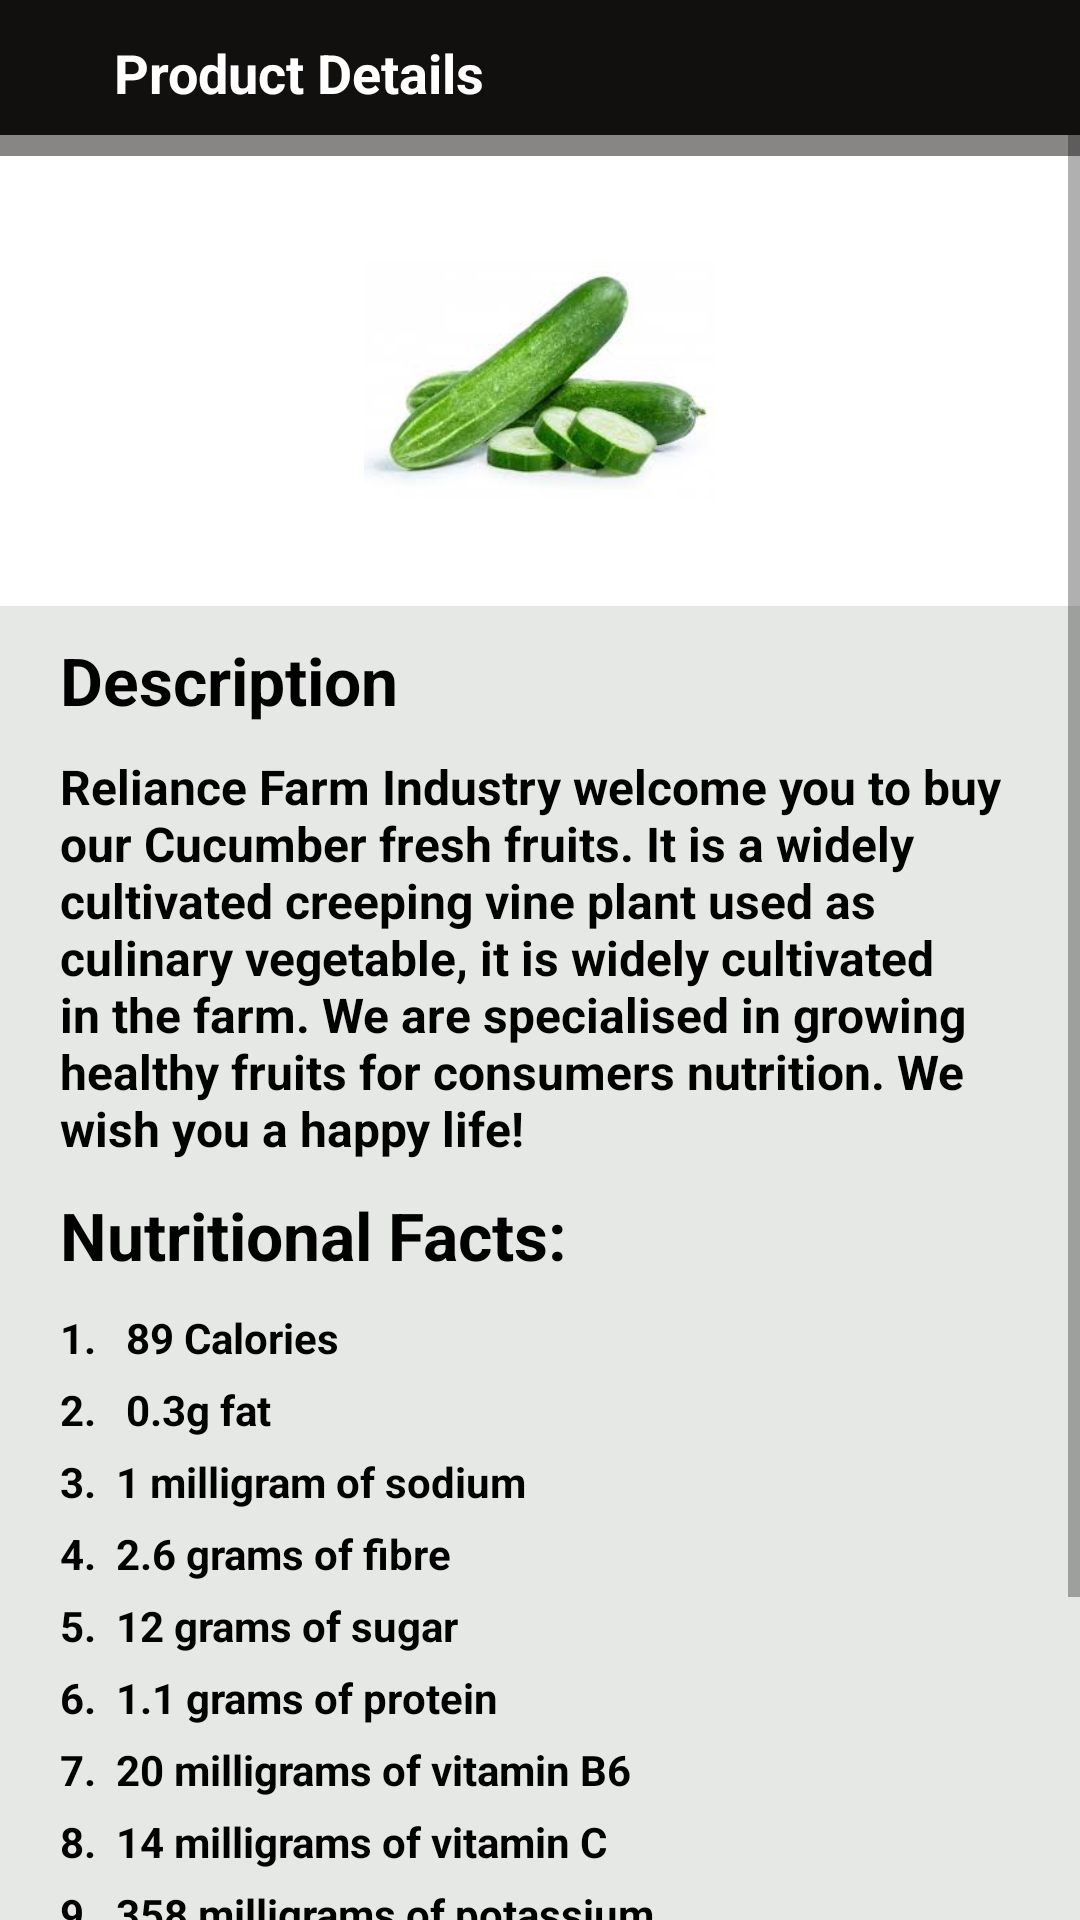

Where to tap for icons on this 1080 x 1920 app screen, as (x=x, y=y):
cucumber: (x=539, y=377)
